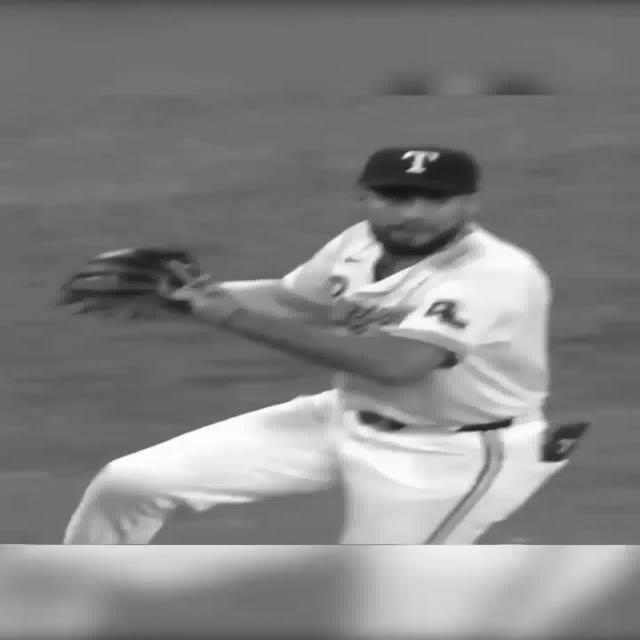baseball_glove: (57, 246, 202, 316)
